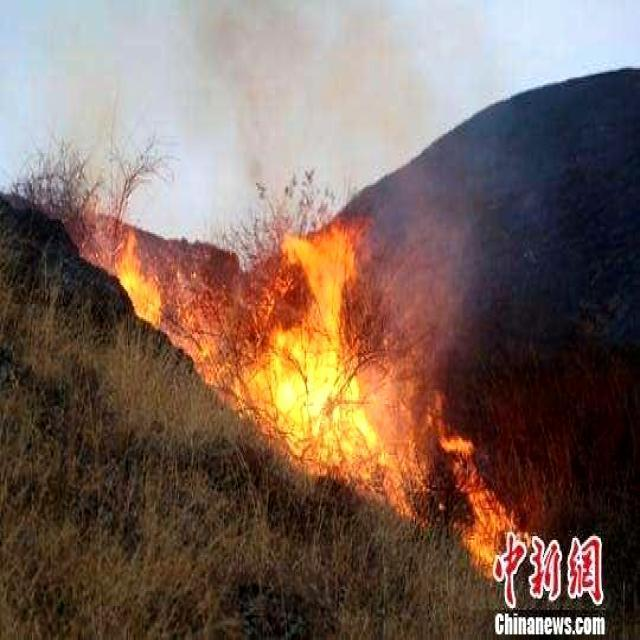Fire: (88, 228, 306, 450), (246, 210, 388, 480), (444, 444, 534, 570), (100, 208, 186, 337), (372, 376, 450, 516)
Smoke: (342, 83, 485, 388)
